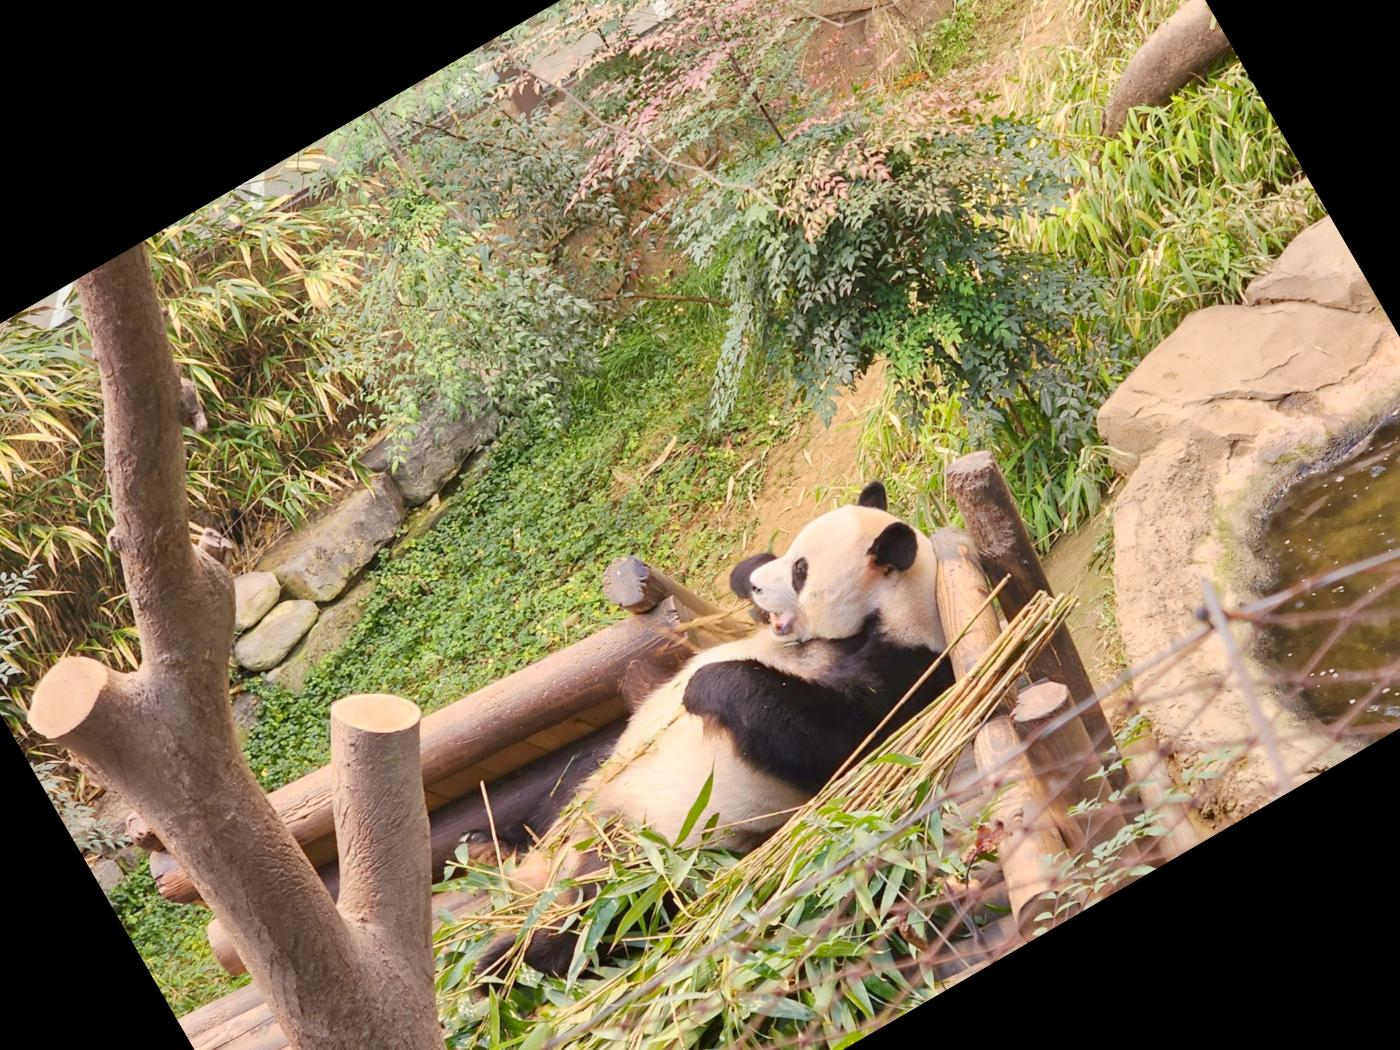panda: (348, 465, 1038, 1033)
